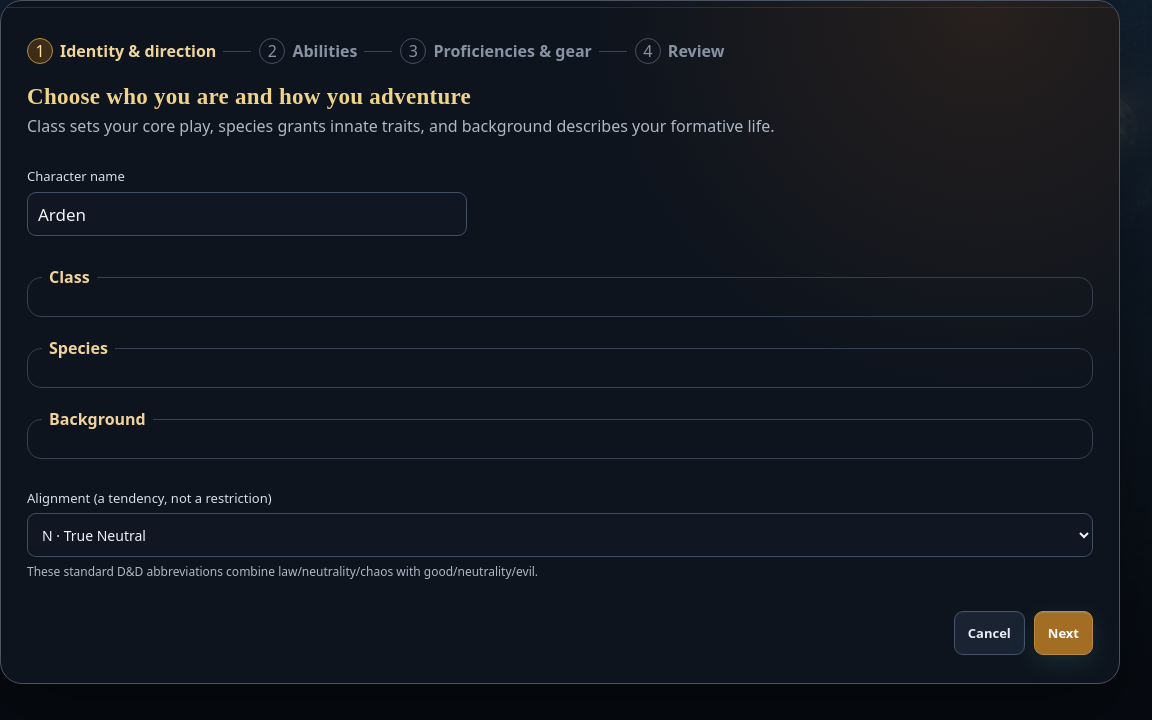
it: D&D 2024 professional character builder › keeps wizard prepared spells inside the selected spellbook
This screenshot has width=1152, height=720.
(page scrolled)
# 通过真实导航走到第 3 步（initial 已提供完整草稿，服务端校验可通过）
Click the button "Next" at (1063, 633), box [1034,611,1093,655]
(page scrolled)
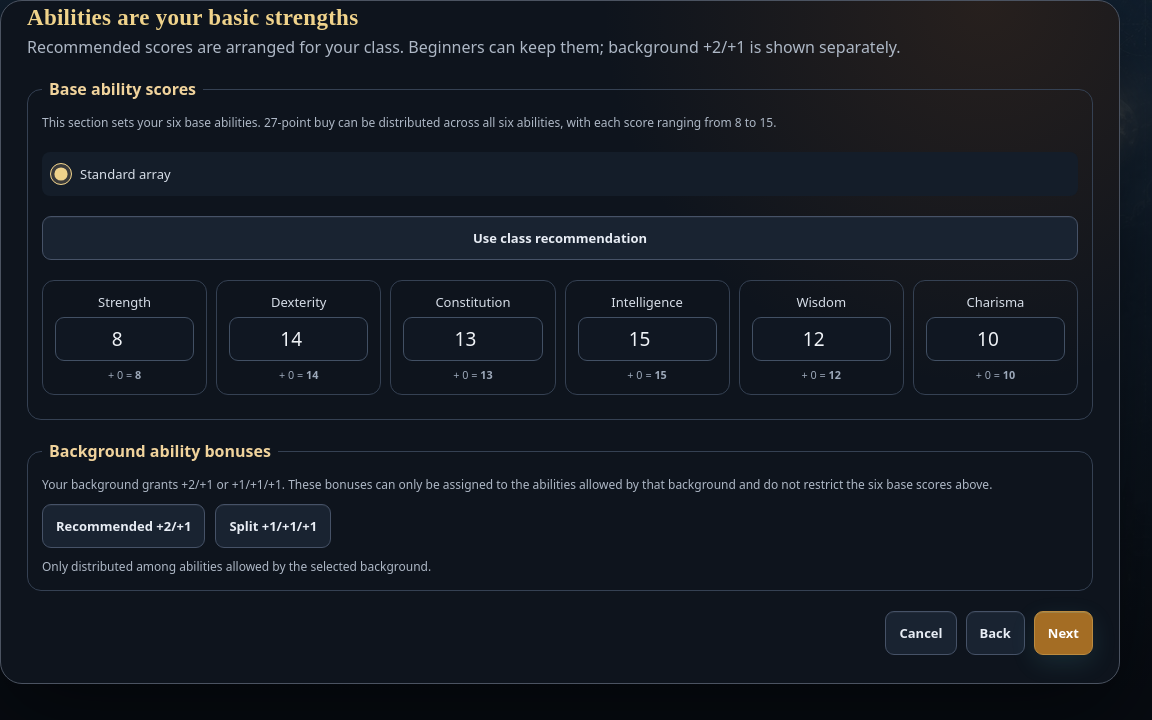
Click the button "Next" at (1063, 633), box [1034,611,1093,655]
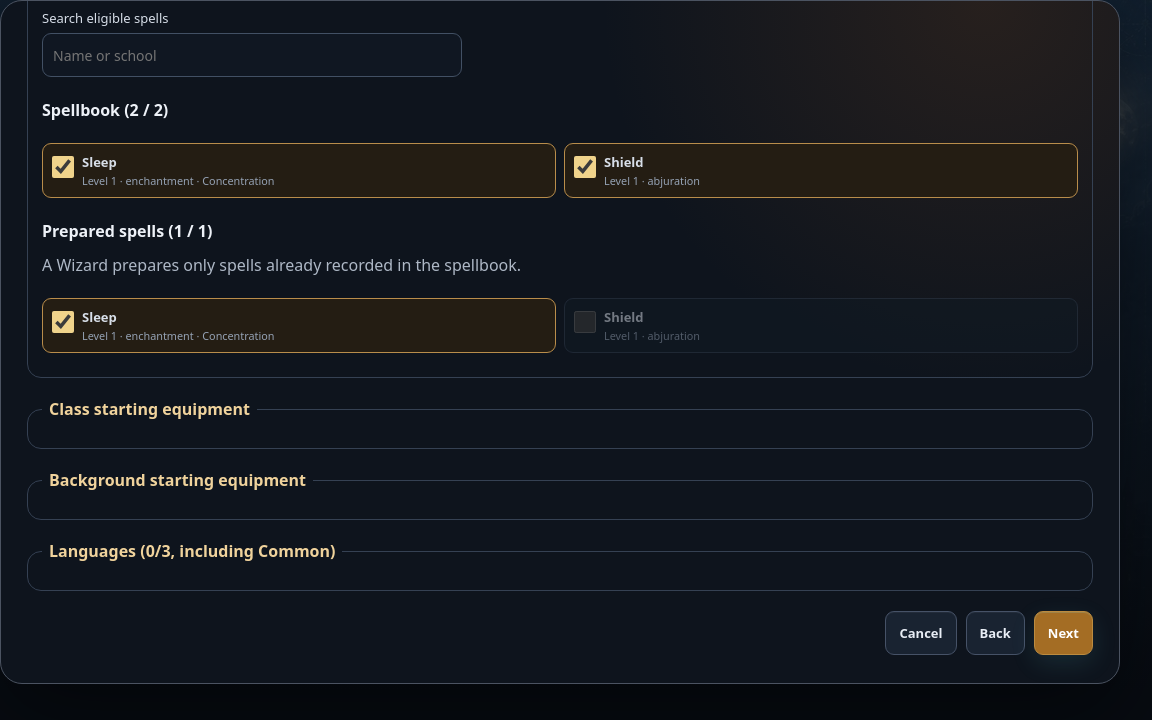
Click the checkbox labelled "Sleep Level 1 · enchantment · Concentration" below "Spellbook (2 / 2)" at (63, 167), box [52,156,74,178]
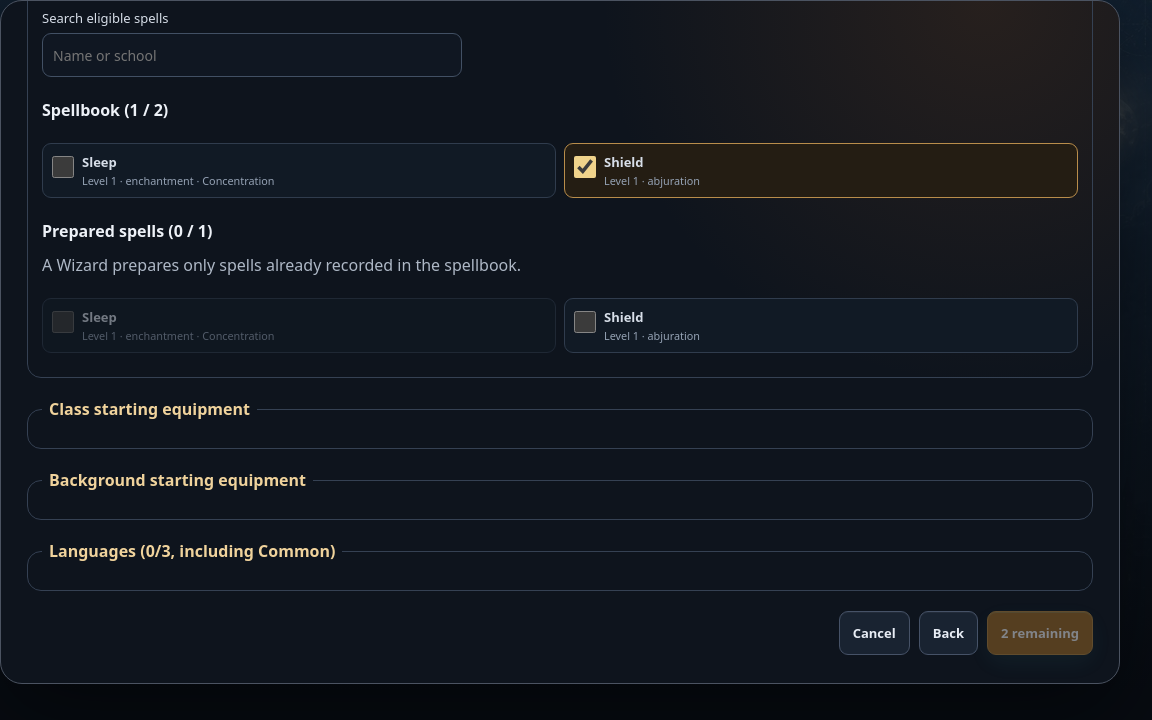
Expected: the checkbox labelled "Sleep Level 1 · enchantment · Concentration" below "Prepared spells (0 / 1)" is disabled, [52,311,74,333]
Expected: the checkbox labelled "Sleep Level 1 · enchantment · Concentration" below "Prepared spells (0 / 1)" is not checked, [52,311,74,333]
